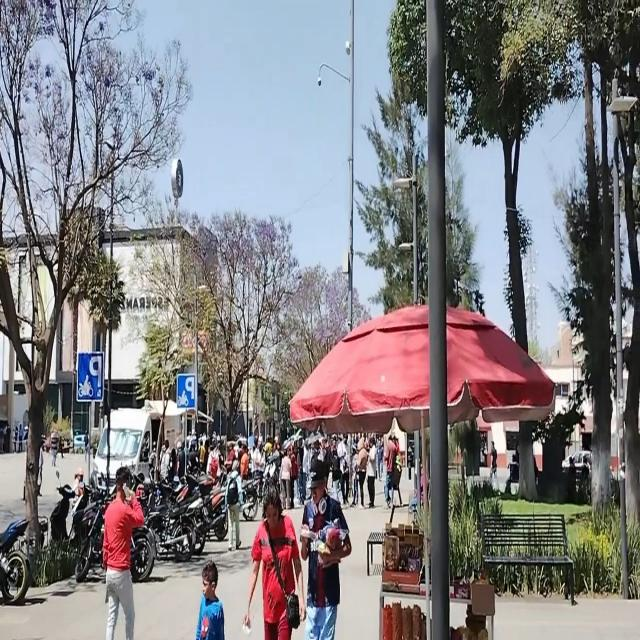adult: (299, 456, 353, 640), (246, 487, 309, 640), (102, 466, 143, 640), (226, 460, 244, 550), (384, 433, 397, 508), (338, 434, 350, 507), (357, 437, 368, 507), (367, 437, 377, 507), (280, 450, 292, 507), (488, 440, 498, 490)
child: (197, 562, 227, 640)
